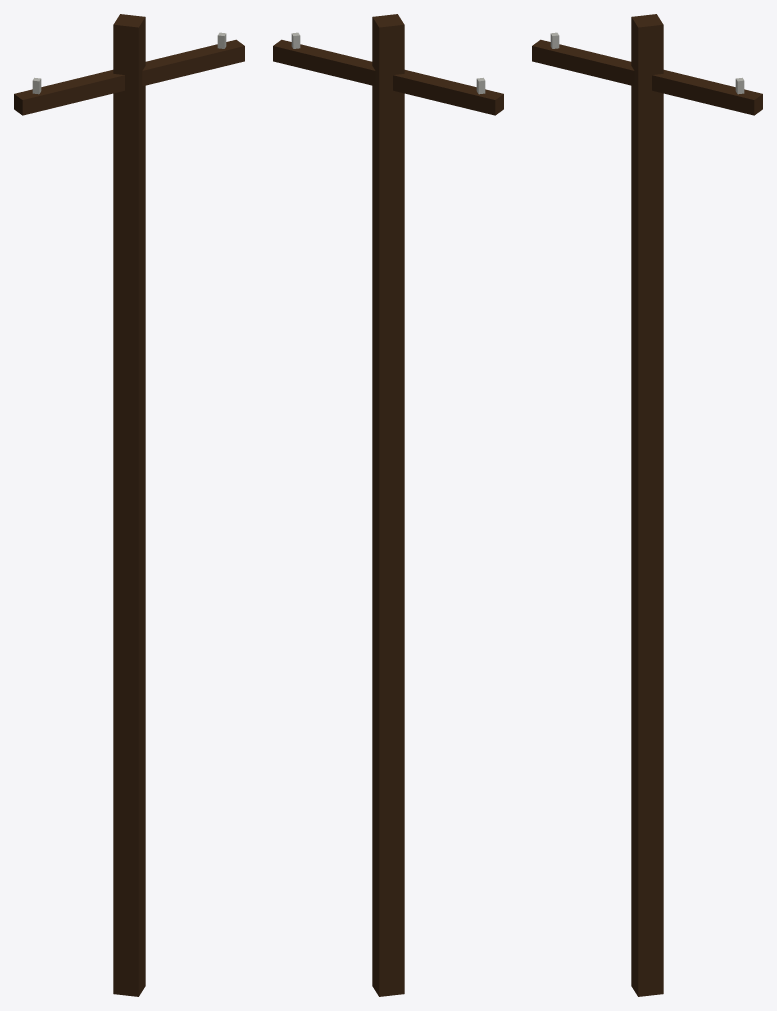
File: bg_field_pole_1_lod2.glb
3 renders of one model, left to right at view 1: azimuth 30°, elevation 25°; view 2: azimuth 150°, elevation 25°; view 3: azimuth 330°, elevation 25°, orthographic.
Visible parts, largest first — view 1: body; view 2: body; view 3: body.
Part boxes in pixels (x1,y1,x2,y2): body: (14, 14, 244, 996); body: (273, 14, 503, 996); body: (532, 14, 762, 996).
Bounding box in the file's own units: 1.8 × 7.5 × 0.26.
